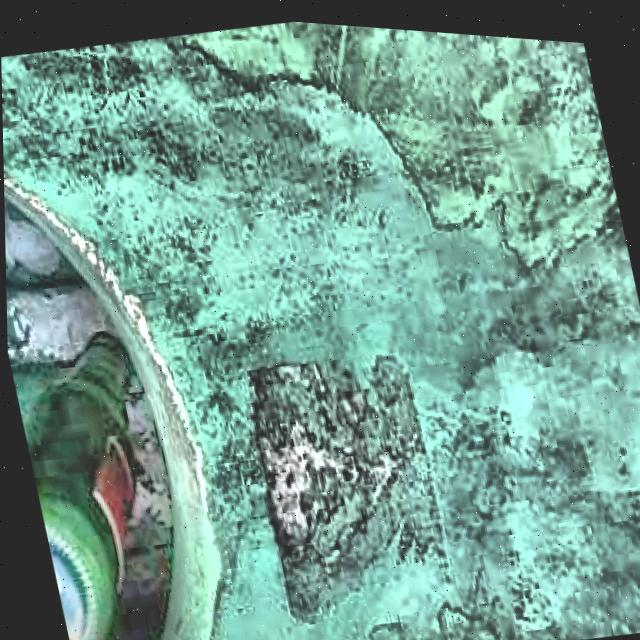glass: (23, 332, 132, 640)
